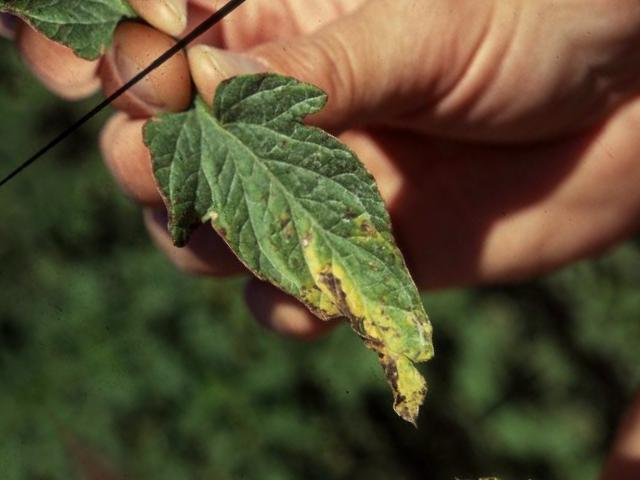Tomato leaf bacterial spot: (95, 10, 530, 480)
